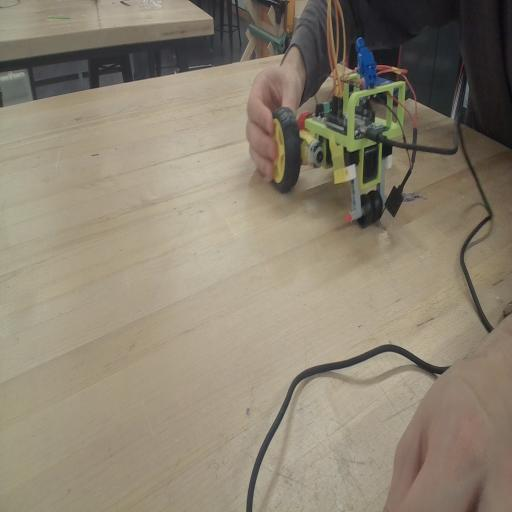blue LEGO minifig: (354, 28, 378, 94)
